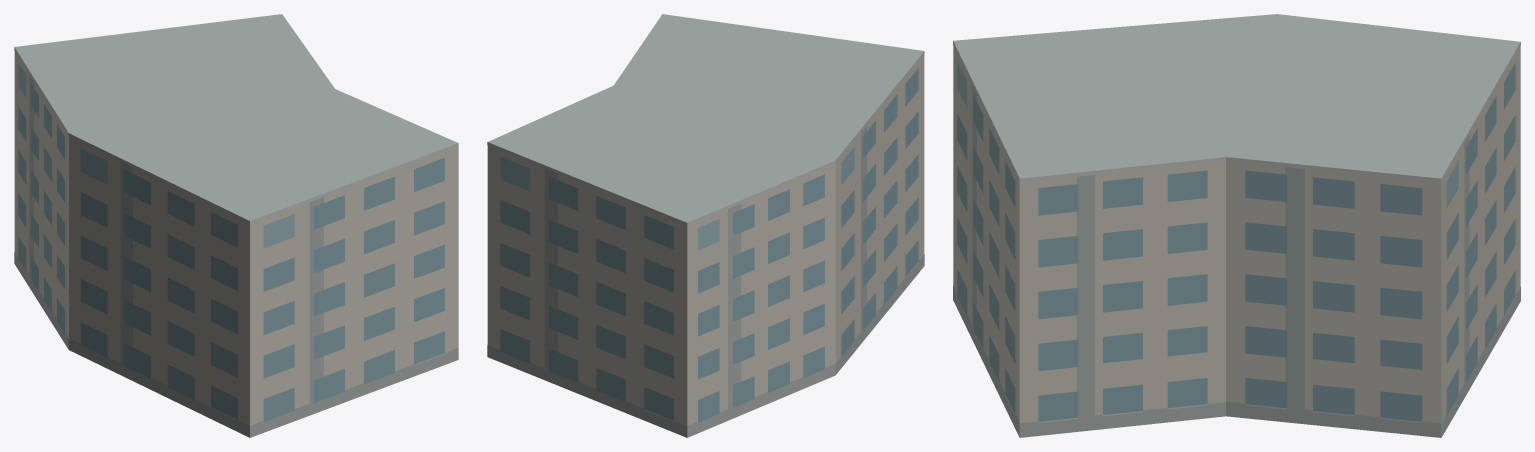
File: residential-97aa35f1-964f-4e87-8609-da586ee1465b.glb
3 renders of one model, left to right at view 1: azimuth 30°, elevation 25°; view 2: azimuth 150°, elevation 25°; view 3: azimuth 270°, elevation 25°, orthographic. The views are drawn at different scales.
Visible parts, largest first — view 1: residential-97aa35f1-964f-4e87-8609-da586ee1465b.tmp; view 2: residential-97aa35f1-964f-4e87-8609-da586ee1465b.tmp; view 3: residential-97aa35f1-964f-4e87-8609-da586ee1465b.tmp.
Boxes of the visible parts, x1,y1,x2,y2 form: residential-97aa35f1-964f-4e87-8609-da586ee1465b.tmp: [14, 14, 458, 437]; residential-97aa35f1-964f-4e87-8609-da586ee1465b.tmp: [487, 14, 924, 437]; residential-97aa35f1-964f-4e87-8609-da586ee1465b.tmp: [953, 14, 1520, 437].
Bounding box in the file's own units: 20.77 × 15.25 × 30.27.
